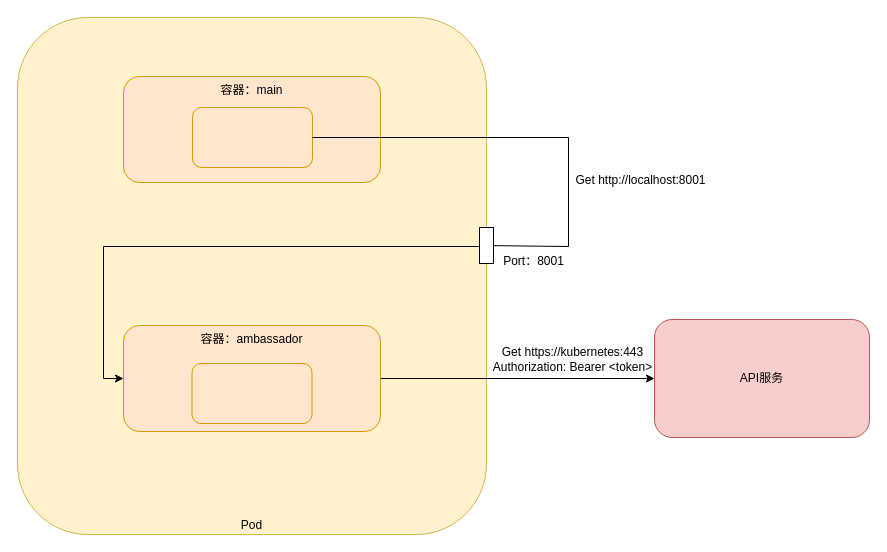
Some shapes in this 887 by 552 pixel diagram are drawn without their labels. The shapes that lost their labels are listed below. From the top down, each one's centre as x and y in pixels, then its label:
[252,137]: curl
[251,393]: kubectl proxy
